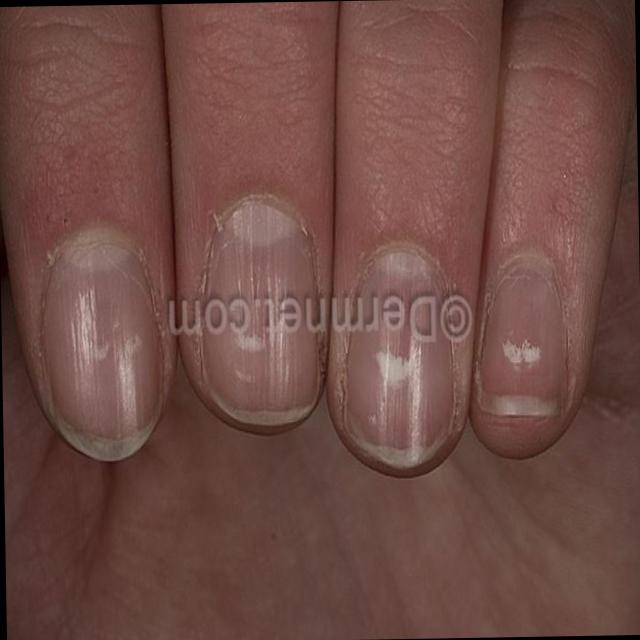Nail: (41, 237, 158, 457), (201, 201, 318, 421), (346, 253, 453, 462), (479, 267, 564, 414)
